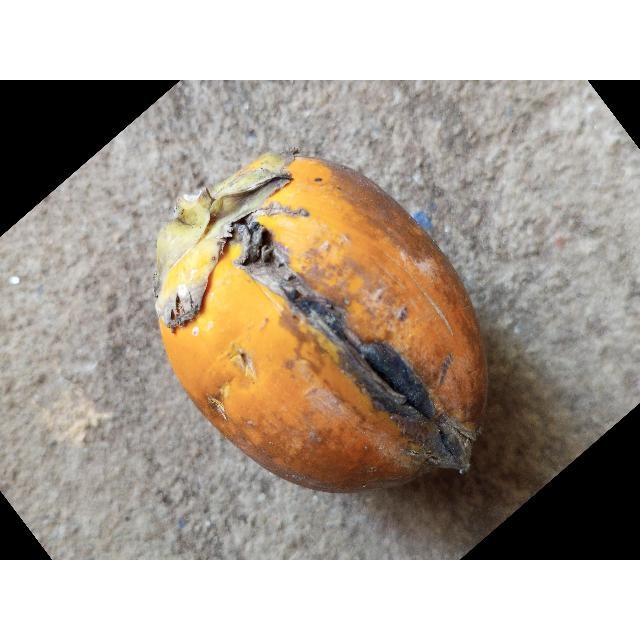damaged: (153, 153, 489, 495)
